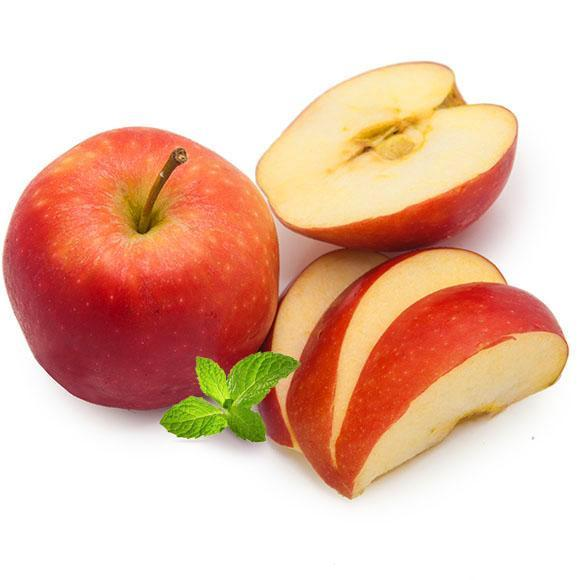apple: (1, 126, 282, 416), (261, 248, 568, 500), (253, 59, 522, 245)
